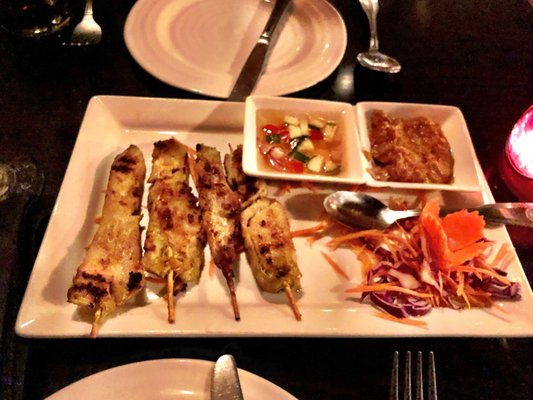burger: (388, 349, 439, 400)
pizza: (0, 0, 83, 40)
sandwich: (227, 0, 291, 101)
soup: (68, 144, 148, 334)
